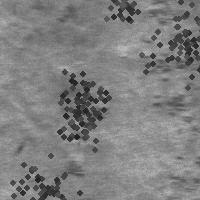rolled-in_scale: (138, 7, 197, 196), (38, 72, 120, 154), (134, 0, 200, 90), (48, 64, 112, 128), (0, 154, 82, 200), (56, 104, 107, 177), (92, 0, 150, 30), (145, 1, 183, 31)
